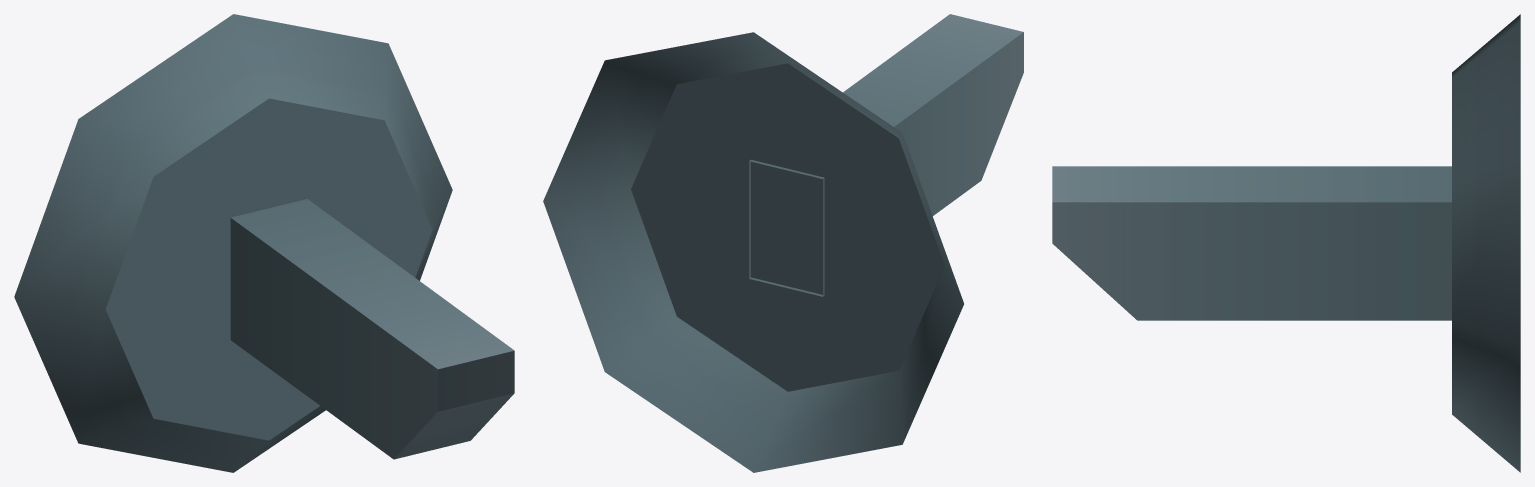
File: Security_cam_013.fbx
The picture shows the model from 3 angles, left to right: view 1: azimuth 30°, elevation 25°; view 2: azimuth 150°, elevation 25°; view 3: azimuth 270°, elevation 25°; orthographic projection. The views are drawn at different scales.
Visible parts, largest first — view 1: Security_cam_013; view 2: Security_cam_013; view 3: Security_cam_013.
Part boxes in pixels (x1=…): Security_cam_013: x1=14, y1=14, x2=514, y2=472; Security_cam_013: x1=543, y1=14, x2=1023, y2=472; Security_cam_013: x1=1052, y1=14, x2=1520, y2=472.
Size of the model in its own units: 20.45 by 19.61 by 20.45.
